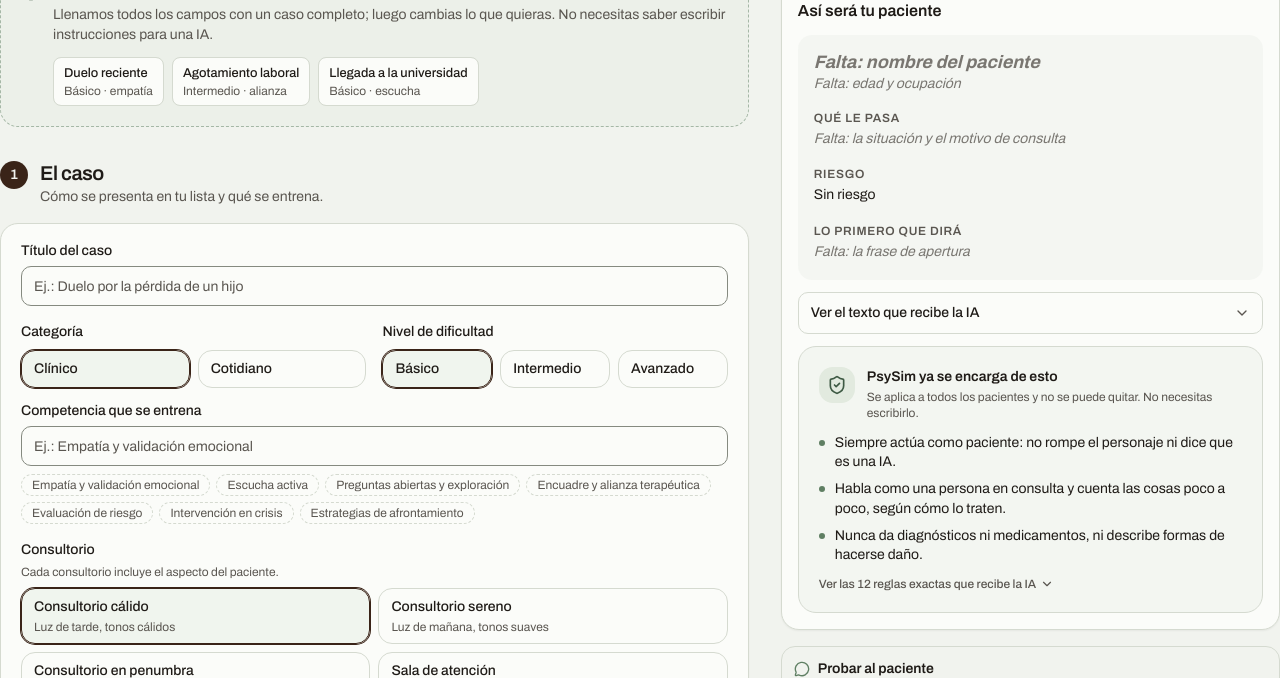
Test case: ConstructorCaso › muestra el error del servidor sin salir de la página
This screenshot has width=1280, height=678.
In the field labelled "Título del caso": point(374, 286) [21,266,728,306], type "Pérdida laboral"
In the field labelled "Competencia que se entrena": point(374, 446) [21,426,728,466], type "Escucha activa"
(page scrolled)
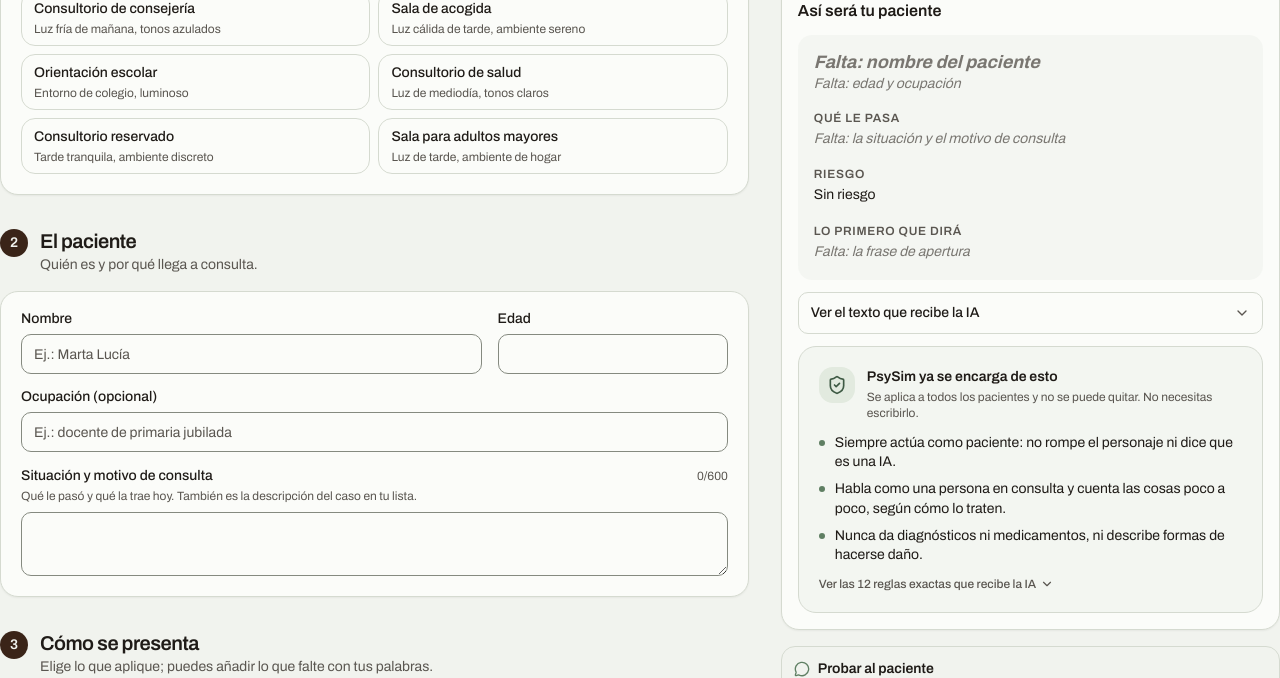
In the field labelled "Nombre": point(251, 354) [21,334,482,374], type "Camila Rojas"
(page scrolled)
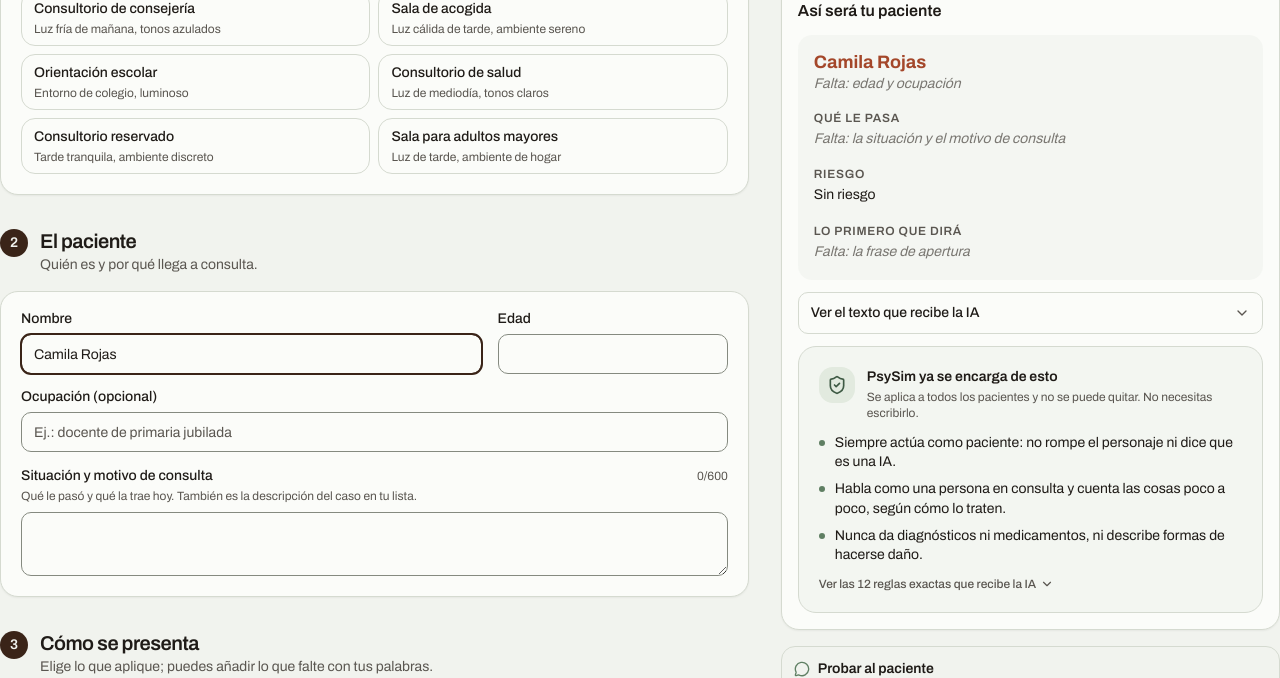
In the number field labelled "Edad": point(613, 354) [498,334,728,374], type "29"
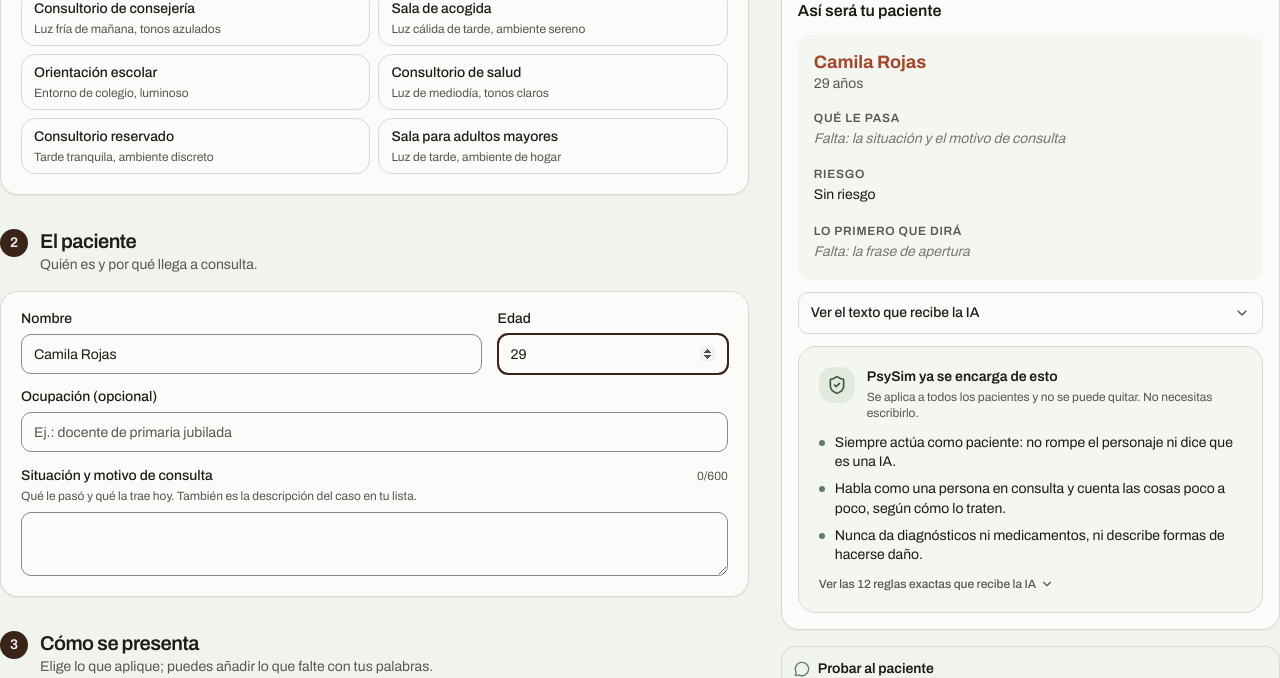
In the text box labelled "Situación y motivo de consulta": point(374, 544) [21,512,728,576], type "Perdió su empleo hace un mes y se siente sin rumbo."
(page scrolled)
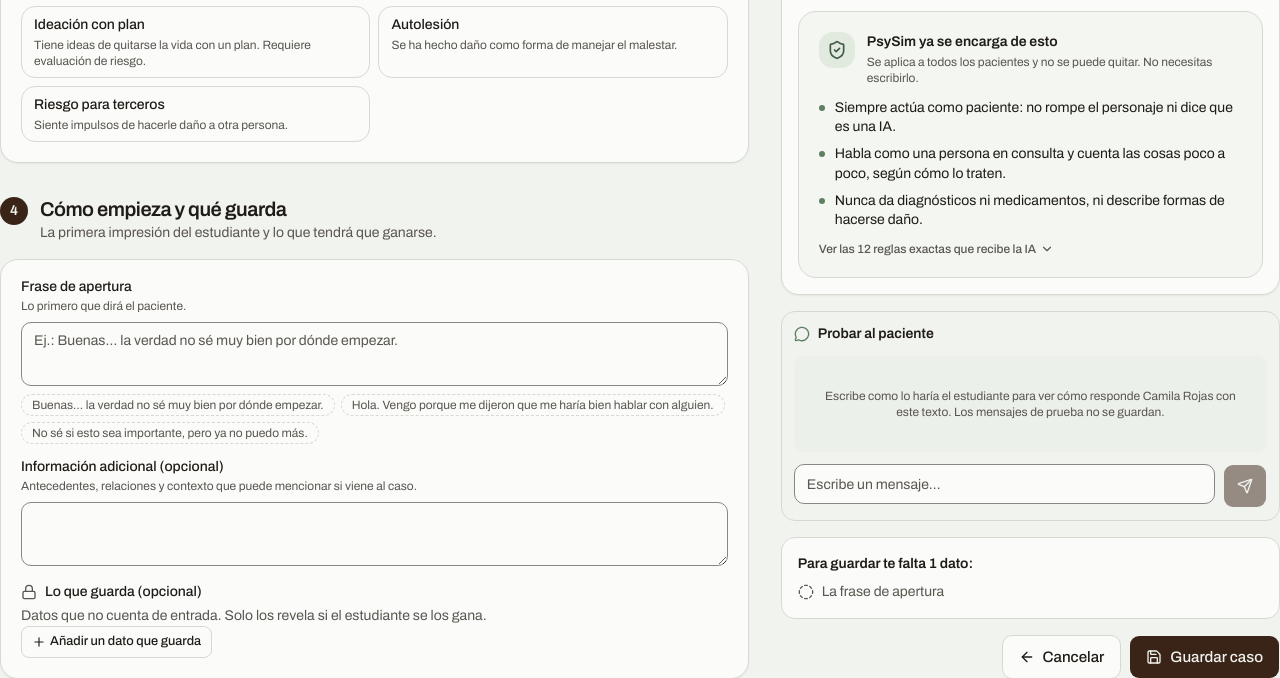
In the text box labelled "Frase de apertura": point(374, 354) [21,322,728,386], type "Hola, no sé por dónde empezar."
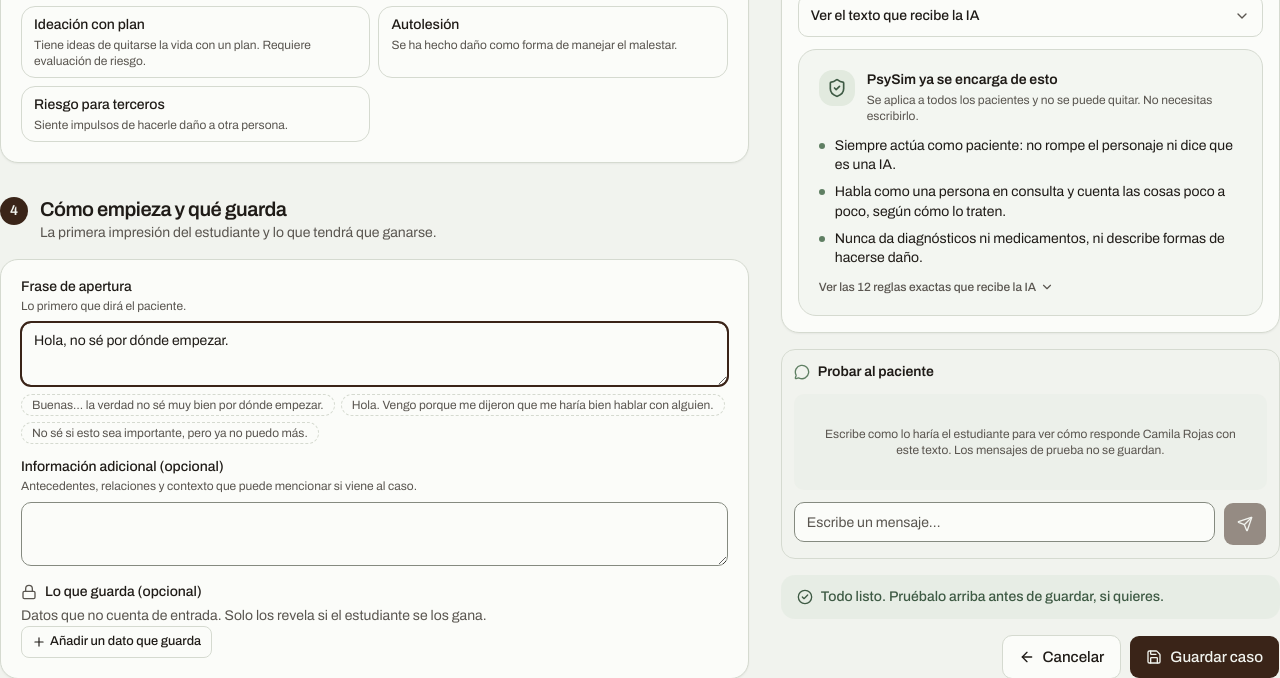
Click the button "Guardar caso": point(1205, 657) [1129,635,1279,677]
(page scrolled)
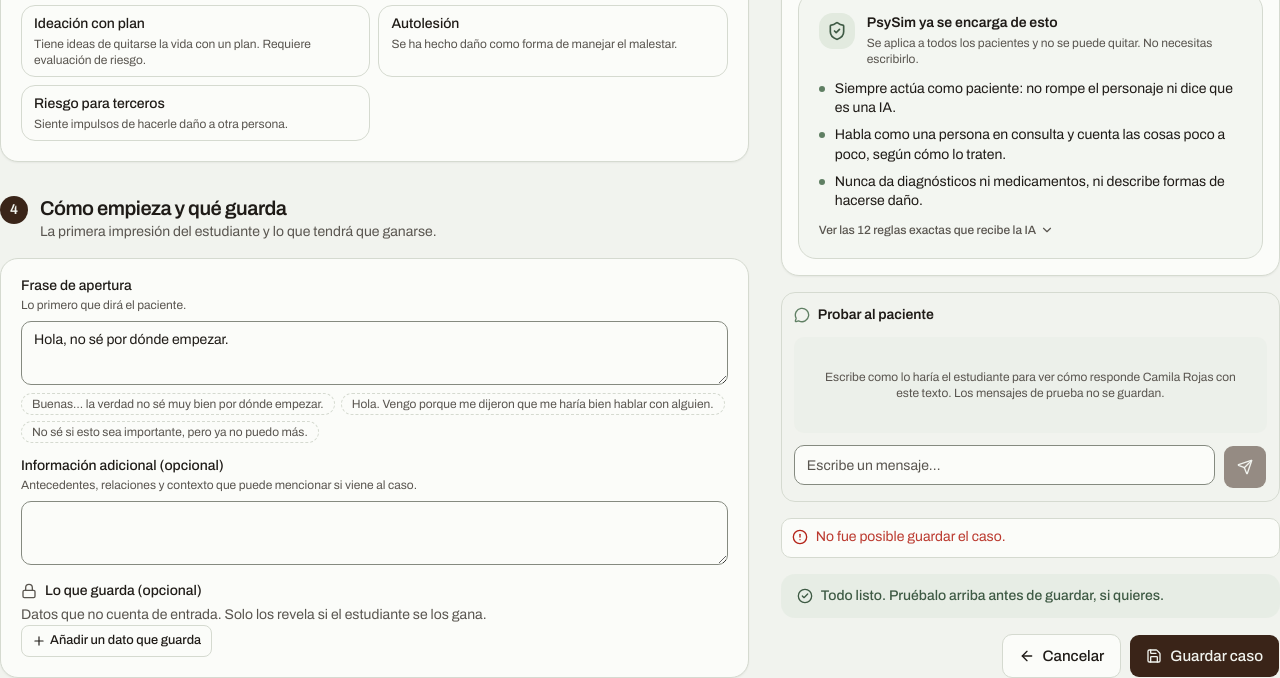
Check: the message reads "No fue posible guardar el caso.", box [816,529,1006,544]
